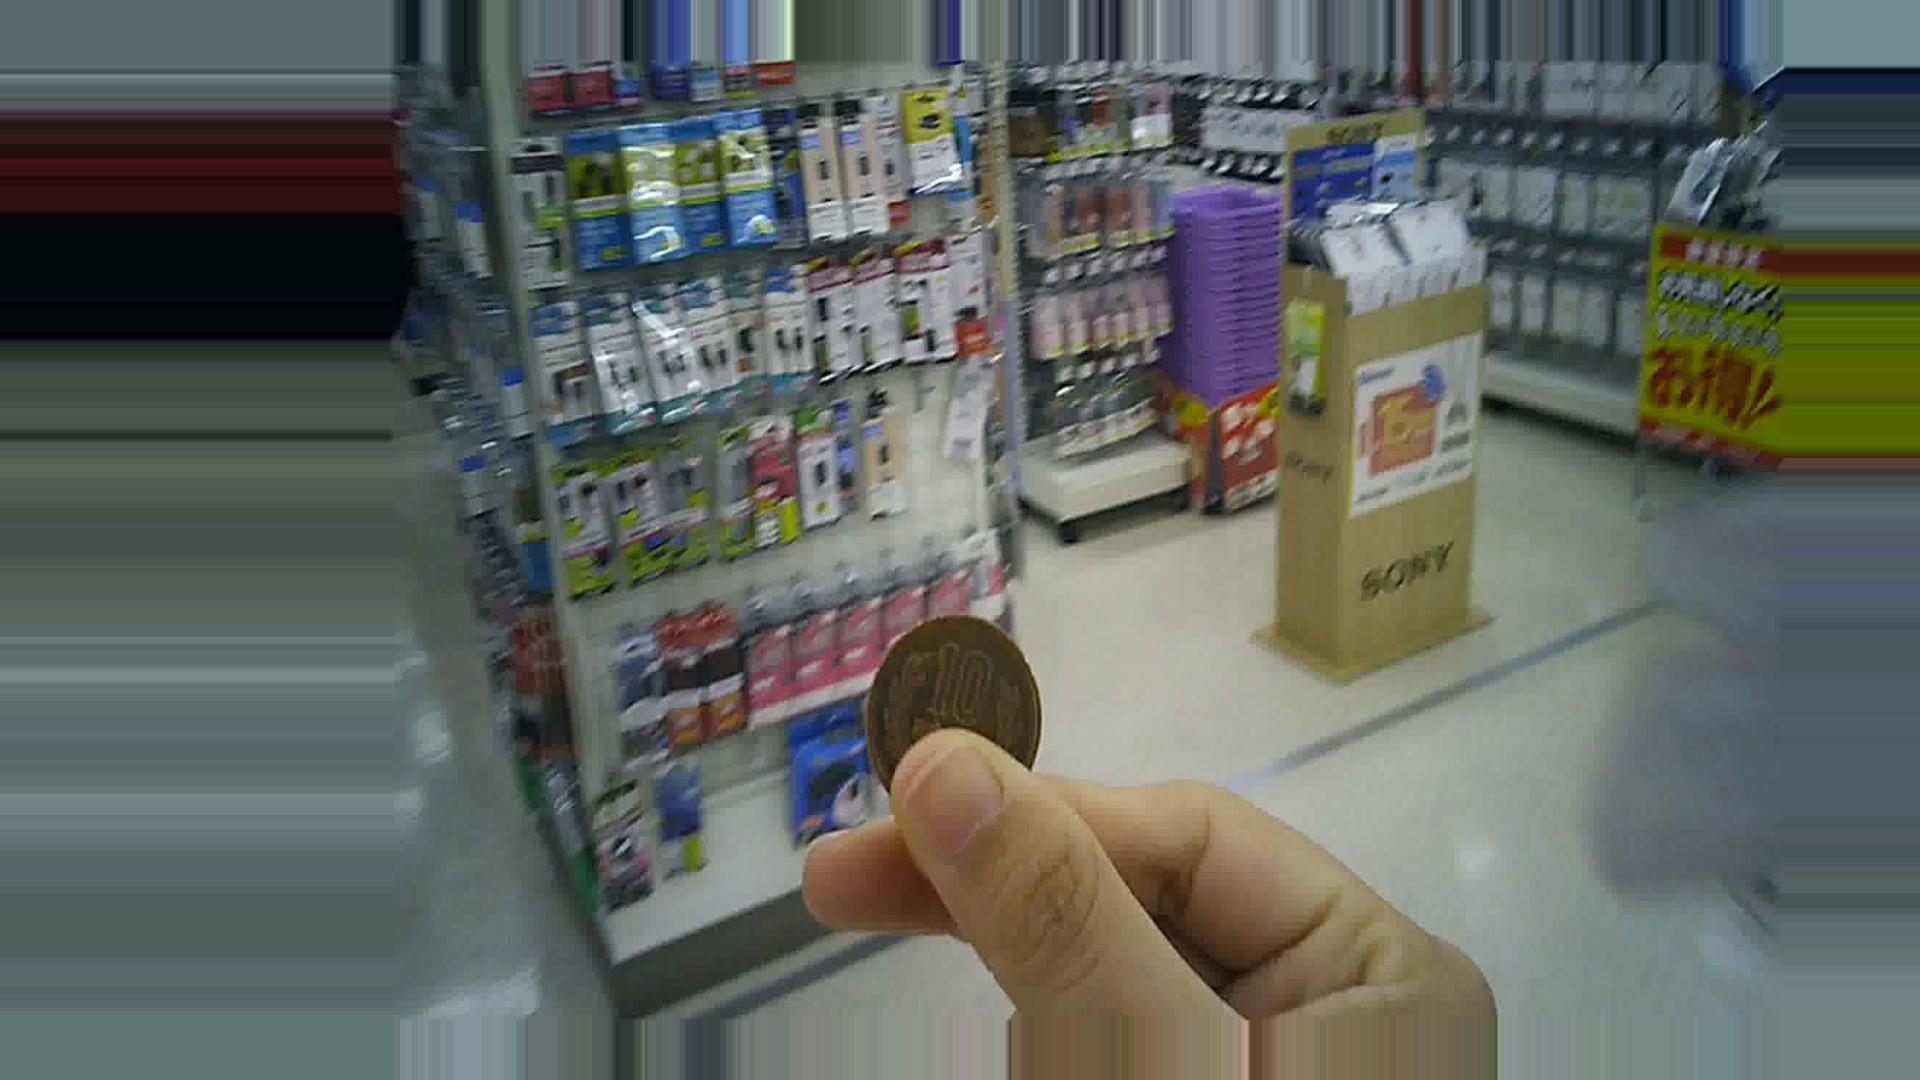10 Yen: (866, 618, 1040, 825)
